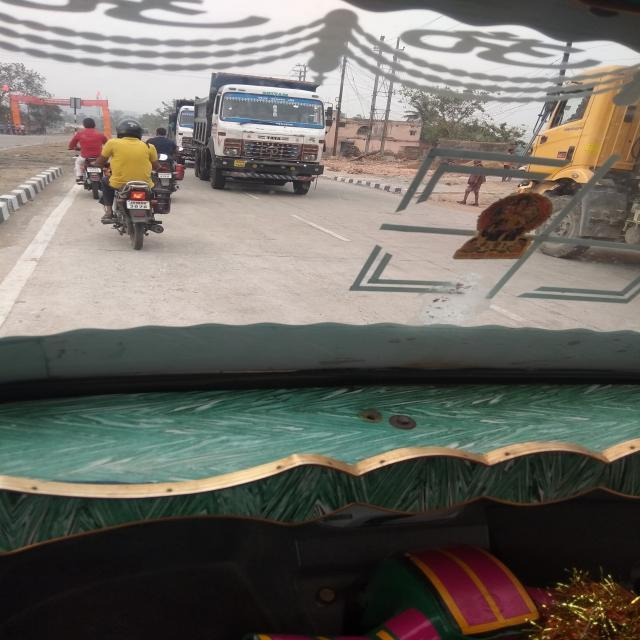truck_back: (517, 60, 640, 260)
truck_front: (188, 70, 334, 198), (164, 92, 201, 178)
two_wheeler_back: (91, 165, 169, 255), (73, 153, 109, 204), (152, 157, 186, 202)
